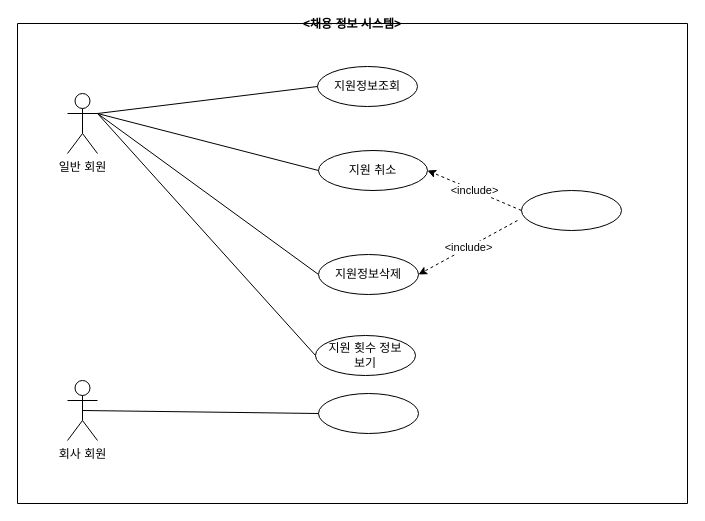
The diagram is 705 pixels wide and 521 high, and some of its shapes have lost their labels. Each missing label, with the centre of its shape:
"지원자 통계 정보 보기" belongs at [368,413].
"지원정보 선택" belongs at [571,210].
